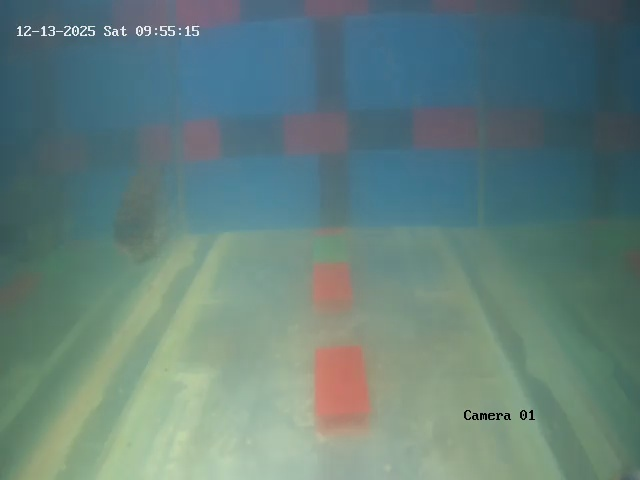fish: (108, 167, 177, 270)
